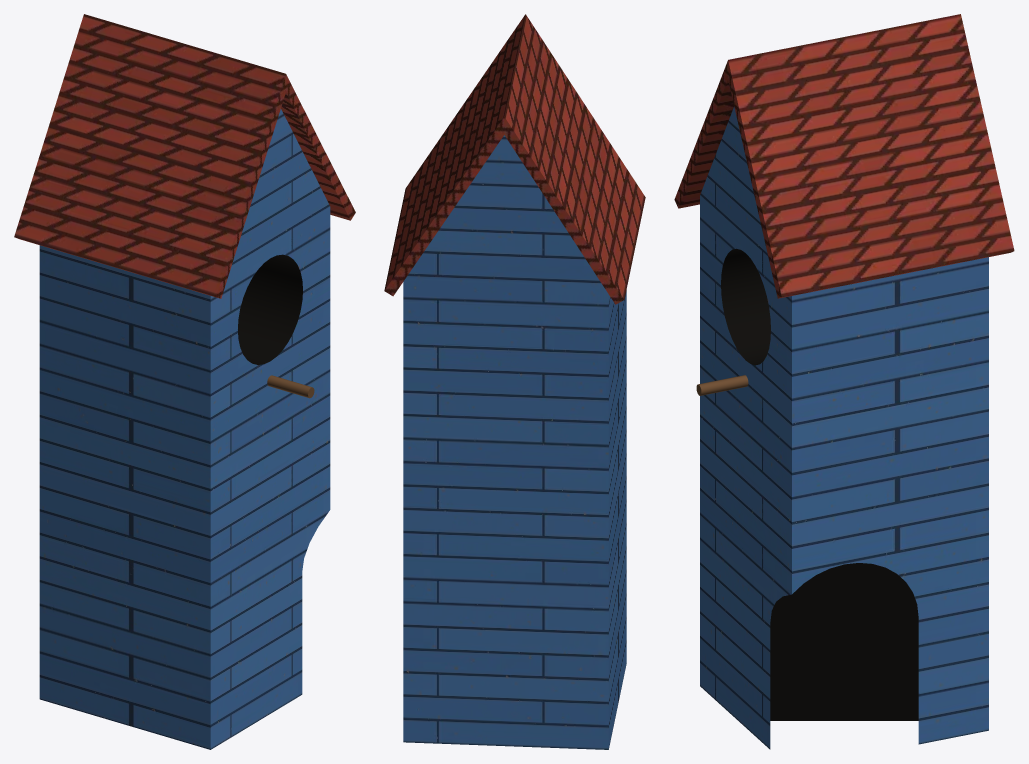
The model's file is birdhouse.glb.
3 renders of one model, left to right at view 1: azimuth 30°, elevation 25°; view 2: azimuth 150°, elevation 25°; view 3: azimuth 270°, elevation 25°, orthographic. The views are drawn at different scales.
Visible parts, largest first — view 1: house, roof.002, perch; view 2: house, roof.002; view 3: house, roof.002, perch.
Part boxes in pixels (x1=…): house: x1=39, y1=109, x2=330, y2=749; roof.002: x1=14, y1=14, x2=355, y2=298; perch: x1=267, y1=375, x2=314, y2=398; house: x1=403, y1=135, x2=626, y2=749; roof.002: x1=384, y1=14, x2=645, y2=304; house: x1=700, y1=106, x2=988, y2=749; roof.002: x1=674, y1=14, x2=1014, y2=298; perch: x1=696, y1=375, x2=748, y2=395.
Size of the model in its own units: 6.86 by 15 by 6.89.
5 materials, 2 textured.
